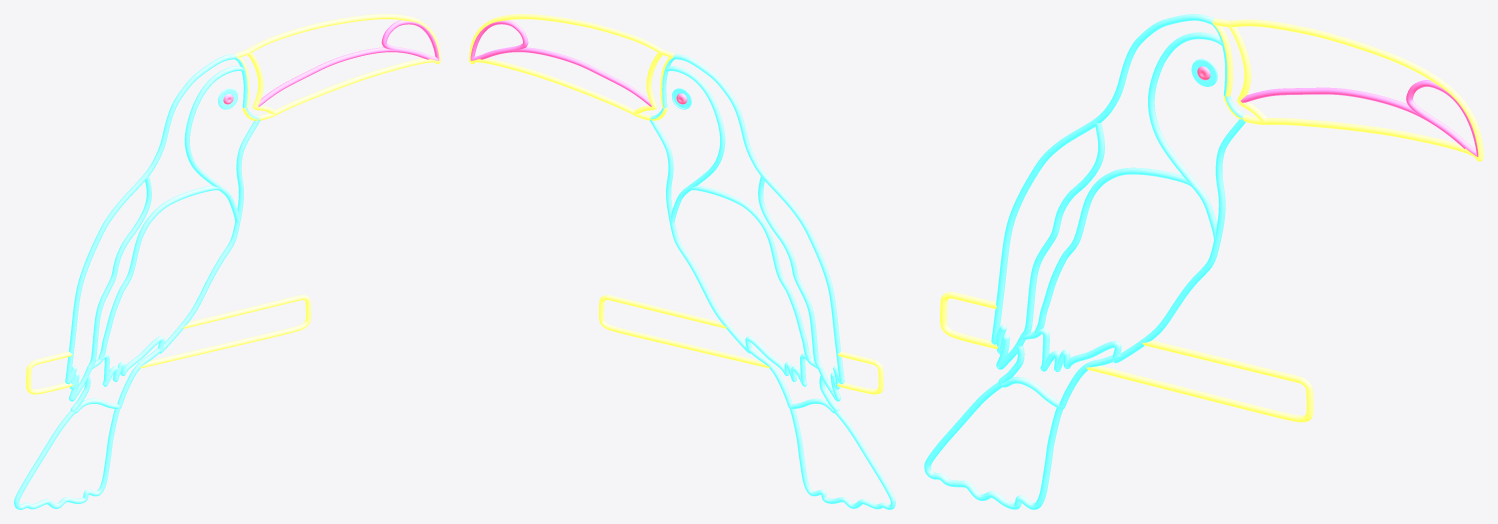
Rendered from wwwwwwd.fbx.
3 views of the same model, side by side, from view 1: azimuth 30°, elevation 25°; view 2: azimuth 150°, elevation 25°; view 3: azimuth 330°, elevation 25° (orthographic). The views are drawn at different scales.
Visible parts, largest first — view 1: NurbsPath.001, NurbsPath, NurbsPath.004, NurbsPath.003, NurbsPath.005, NurbsPath.002; view 2: NurbsPath.001, NurbsPath, NurbsPath.004, NurbsPath.003, NurbsPath.005, NurbsPath.002; view 3: NurbsPath.001, NurbsPath, NurbsPath.004, NurbsPath.003, NurbsPath.005, NurbsPath.002.
Part boxes in pixels (box(x1,y1,x2,y2)): NurbsPath.001: box(65, 54, 260, 401); NurbsPath: box(235, 14, 440, 120); NurbsPath.004: box(26, 295, 311, 394); NurbsPath.003: box(14, 408, 120, 509); NurbsPath.005: box(258, 20, 439, 106); NurbsPath.002: box(70, 344, 166, 413); NurbsPath.001: box(649, 54, 844, 401); NurbsPath: box(469, 14, 674, 120); NurbsPath.004: box(598, 295, 883, 394); NurbsPath.003: box(789, 408, 895, 509); NurbsPath.005: box(470, 20, 651, 106); NurbsPath.002: box(743, 344, 839, 413); NurbsPath.001: box(991, 14, 1245, 372); NurbsPath: box(1212, 18, 1483, 161); NurbsPath.004: box(940, 291, 1313, 422); NurbsPath.003: box(924, 382, 1062, 509); NurbsPath.005: box(1240, 80, 1478, 156); NurbsPath.002: box(998, 345, 1120, 409).
Bounding box in the file's own units: 189 × 179 × 2.41.
